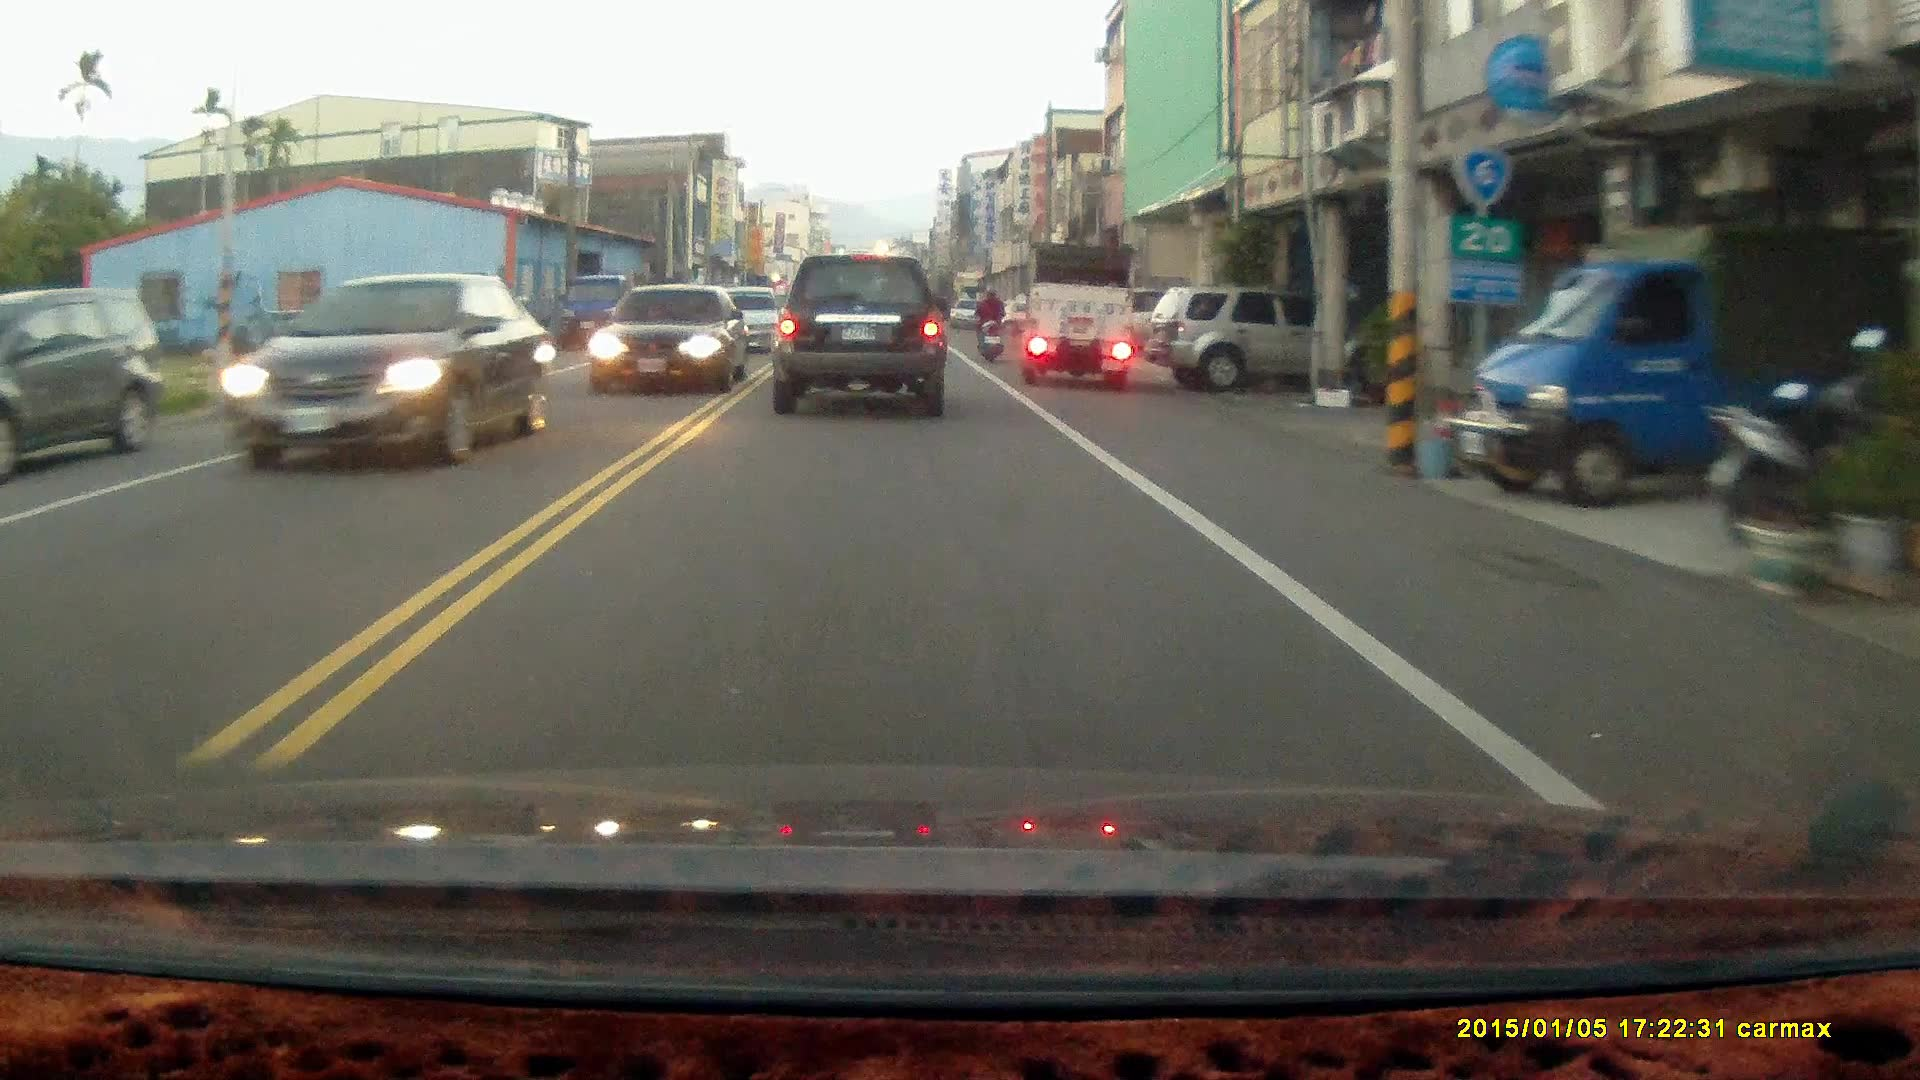rider: (969, 281, 1006, 365)
vehicle: (1462, 187, 1844, 519), (221, 271, 553, 482), (2, 289, 169, 485), (768, 262, 948, 429), (1145, 287, 1323, 397), (588, 284, 754, 398), (1025, 248, 1137, 393)
